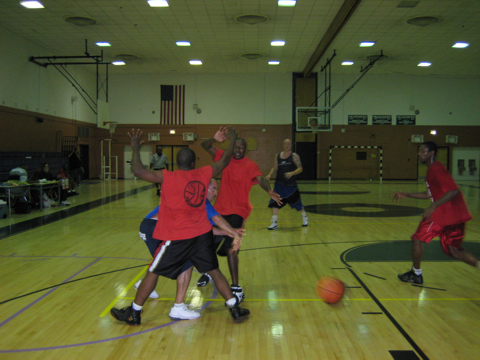basketball: (316, 274, 347, 305)
